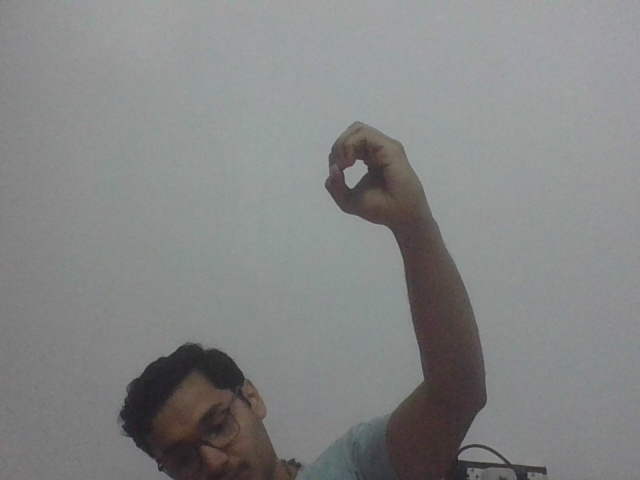O: (325, 115, 427, 228)
